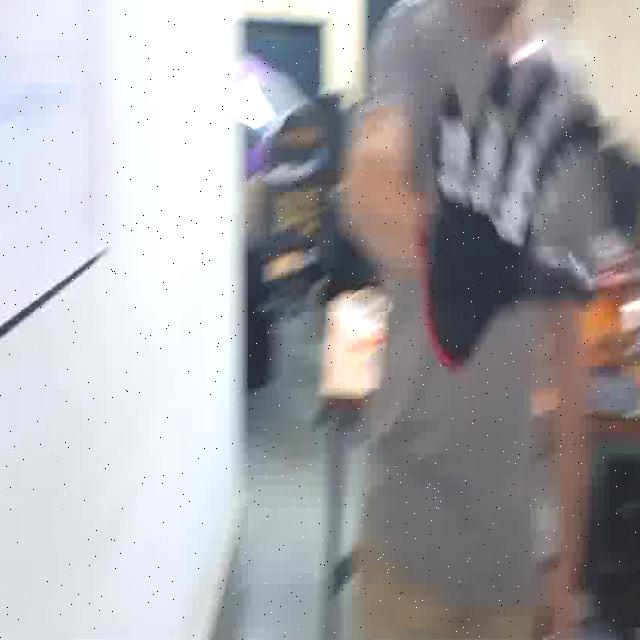Gloves: (420, 52, 606, 368)
